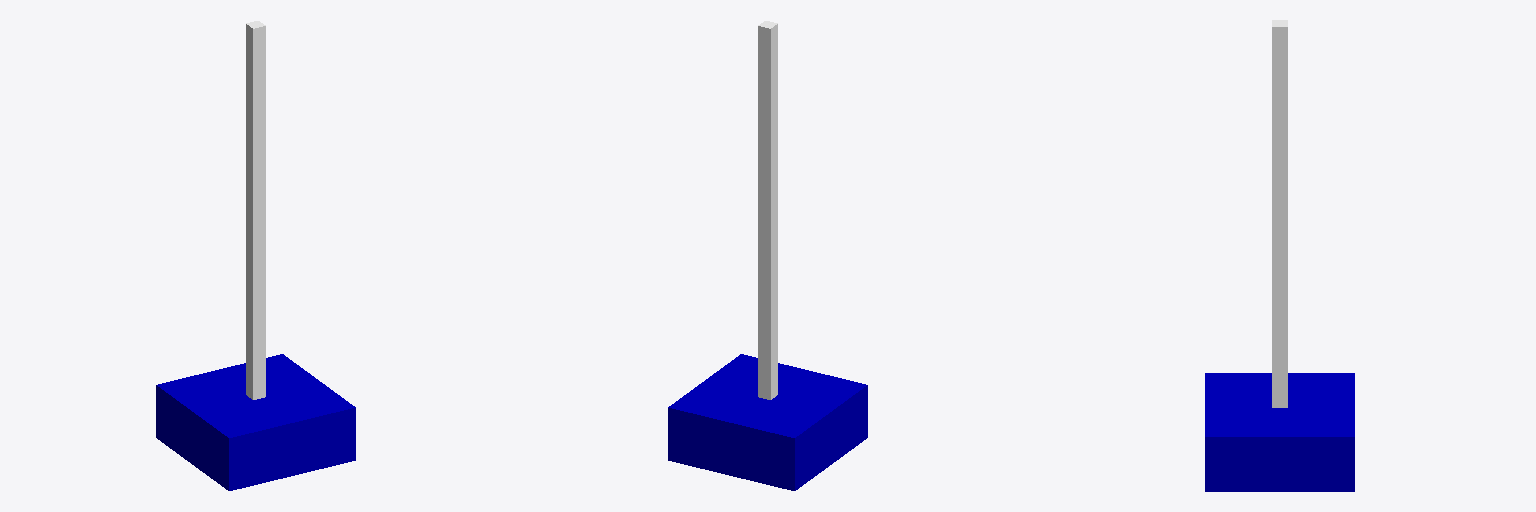
The robot description file, URDF, robot "physics":
<?xml version="1.0"?>
<robot name="physics">

    <link name="slideBar">
    <inertial>
      <mass value="0"/>
      <inertia ixx="1.0" ixy="0.0" ixz="0.0" iyy="1.0" iyz="0.0" izz="1.0"/>
    </inertial>
  </link>

  <link name="cart">
    <visual>
      <geometry>
        <box size="0.5 0.5 0.2"/>
      </geometry>
      <origin xyz="0 0 0"/>
      <material name="blue">
        <color rgba="0 0 .8 1"/>
      </material>
    </visual>
    <collision>
      <geometry>
          <box size="0.5 0.5 0.2"/>
      </geometry>
      <origin xyz="0 0 0"/>
    </collision>
    <inertial>
      <mass value="1"/>
      <inertia ixx="1.0" ixy="0.0" ixz="0.0" iyy="1.0" iyz="0.0" izz="1.0"/>
    </inertial>
  </link>

  <joint name="slider_to_cart" type="prismatic">
    <axis xyz="1 0 0"/>
    <origin xyz="0.0 0.0 0.0"/>
    <parent link="slideBar"/>
    <child link="cart"/>
    <limit effort="1000.0" lower="-4" upper="4" velocity="100"/>
  </joint>

  <link name="pole">
    <visual>
      <geometry>
        <box size="0.05 0.05 1.5"/>	
      </geometry>
      <origin rpy="0 0 0" xyz="0 0 0.75"/>
      <material name="white">
        <color rgba="1 1 1 1"/>
      </material>
    </visual>
    <inertial>
    <origin xyz="0 0 0.75"/>
      <mass value="10"/>
      <inertia ixx="1.0" ixy="0.0" ixz="0.0" iyy="1.0" iyz="0.0" izz="1.0"/>
    </inertial>
     <collision>
      <geometry>
        <box size="0.05 0.05 1.5"/>	
      </geometry>
      <origin rpy="0 0 0" xyz="0 0 0.75"/>
    </collision>
  </link>


  <joint name="cart_to_pole" type="continuous">
    <axis xyz="0 1 0"/>
    <origin xyz="0.0 0.0 0"/>
    <parent link="cart"/>
    <child link="pole"/>
    <limit effort="1000.0" velocity="5"/>
  </joint>
  
</robot>

--- Render facts (derived) ---
Views: 3 orthographic renders of the robot side by side, from view 1: azimuth 30°, elevation 25°; view 2: azimuth 150°, elevation 25°; view 3: azimuth 270°, elevation 25°.
Robot: physics — 3 links, 2 joints (1 continuous, 1 prismatic); root link slideBar; default pose: all joints at 0.
Visible links, largest first — view 1: cart, pole; view 2: cart, pole; view 3: cart, pole.
Link boxes in pixels (x1,y1,x2,y2): cart: (156, 354, 355, 490); pole: (246, 21, 265, 399); cart: (668, 354, 867, 490); pole: (758, 21, 777, 399); cart: (1205, 373, 1354, 491); pole: (1272, 20, 1287, 407).
Size in the robot's own frame: 0.5 by 0.5 by 1.6 metres.
Geometry: primitives only (box / cylinder / sphere), no mesh files.